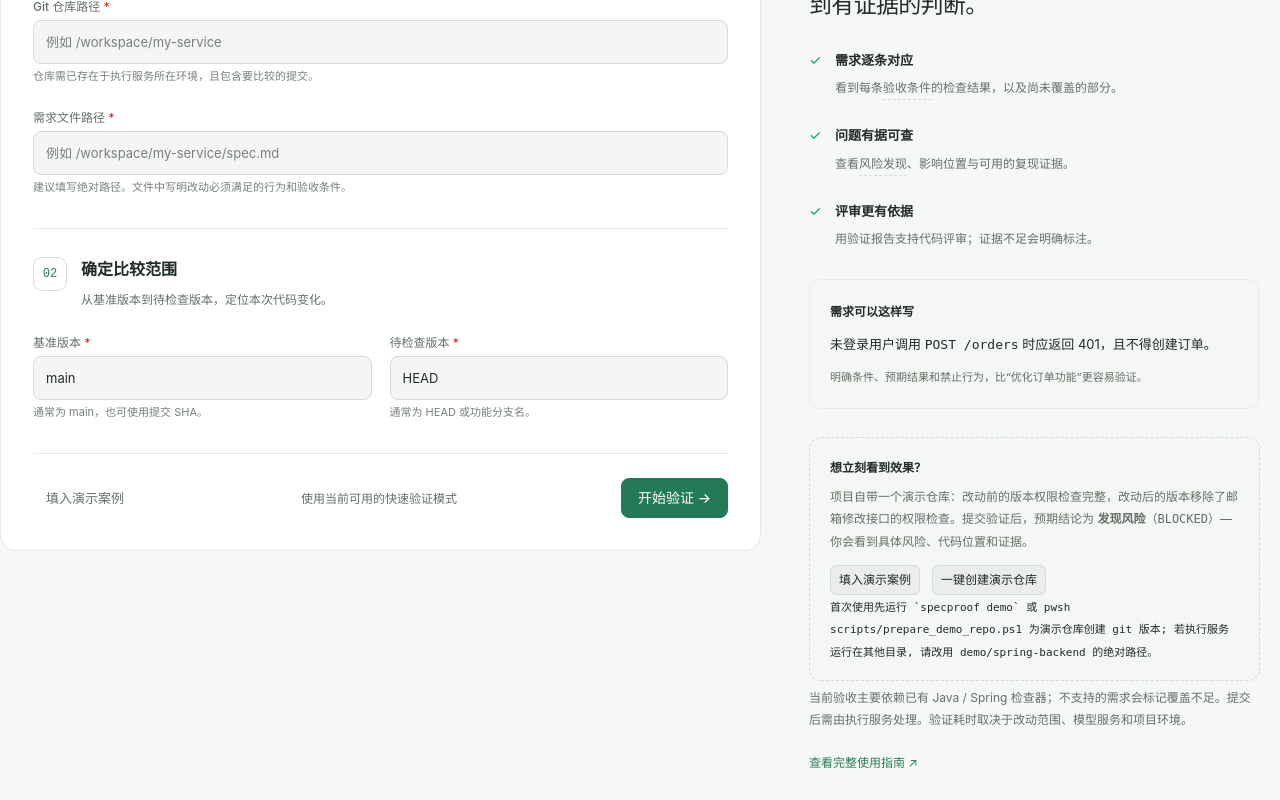
Test: NewVerification demo-repo creation (#241b) › tells the user to configure an API key on 401 instead of crashing
(page scrolled)
Click the button "一键创建演示仓库" at (989, 580), box [932,565,1046,595]
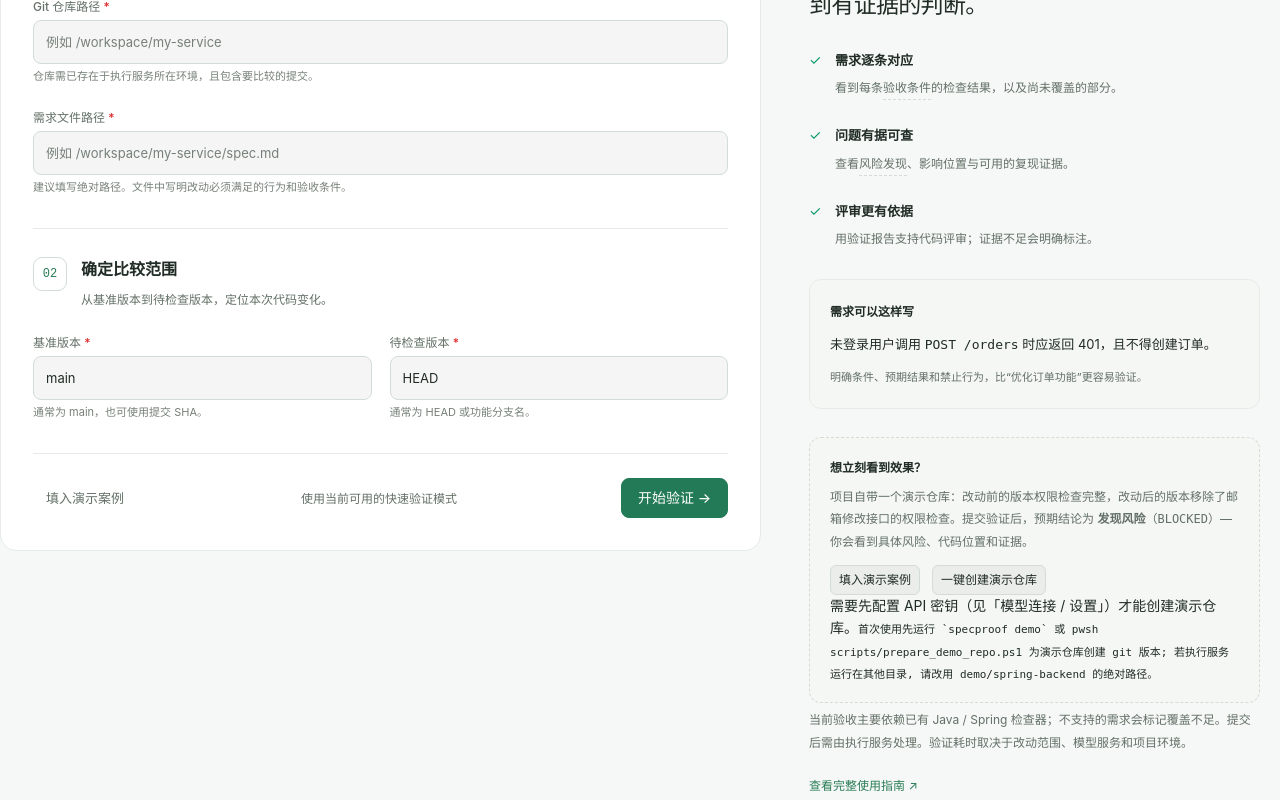
expect the field labelled "Git 仓库路径 *" is empty: met, box [33,20,728,64]
expect the text "需要先配置 API 密钥（见「模型连接 / 设置」）才能创建演示仓库。" is shown: met, box [830,597,1216,636]
